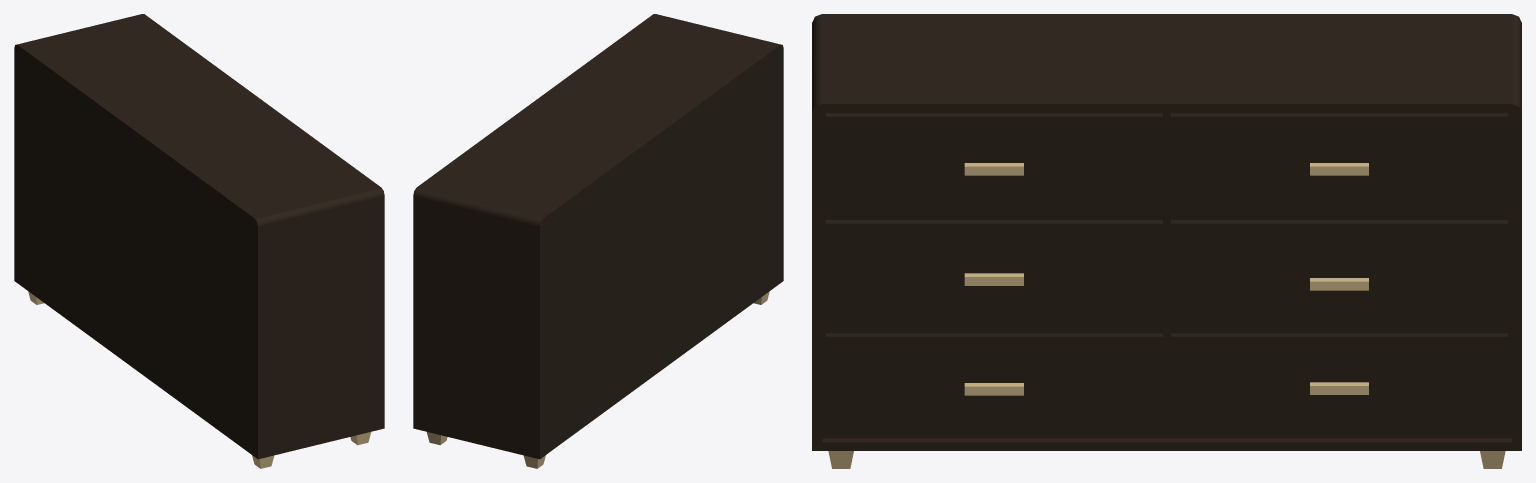
3 views of the same model, side by side, from view 1: azimuth 30°, elevation 25°; view 2: azimuth 150°, elevation 25°; view 3: azimuth 270°, elevation 25° (orthographic). The views are drawn at different scales.
Visible parts, largest first — view 1: dresser_low; view 2: dresser_low; view 3: dresser_low, drawer3_low, drawer4_low, drawer1_low, drawer2_low, drawer5_low, drawer6_low, handle1_low, handle3_low, handle5_low, handle2_low, handle4_low (+1 smaller).
Part boxes in pixels (<box>): dresser_low: <box>14,14,384,459</box>; dresser_low: <box>413,14,783,459</box>; dresser_low: <box>812,14,1521,450</box>; drawer3_low: <box>826,220,1162,332</box>; drawer4_low: <box>1171,220,1507,332</box>; drawer1_low: <box>826,113,1162,218</box>; drawer2_low: <box>1171,113,1507,218</box>; drawer5_low: <box>826,333,1162,438</box>; drawer6_low: <box>1171,333,1507,438</box>; handle1_low: <box>964,163,1023,175</box>; handle3_low: <box>964,273,1023,285</box>; handle5_low: <box>964,383,1023,395</box>; handle2_low: <box>1310,163,1368,175</box>; handle4_low: <box>1310,278,1368,290</box>.
Bounding box in the file's own units: 2.73 × 5.04 × 8.72.
1 material, 1 textured.
